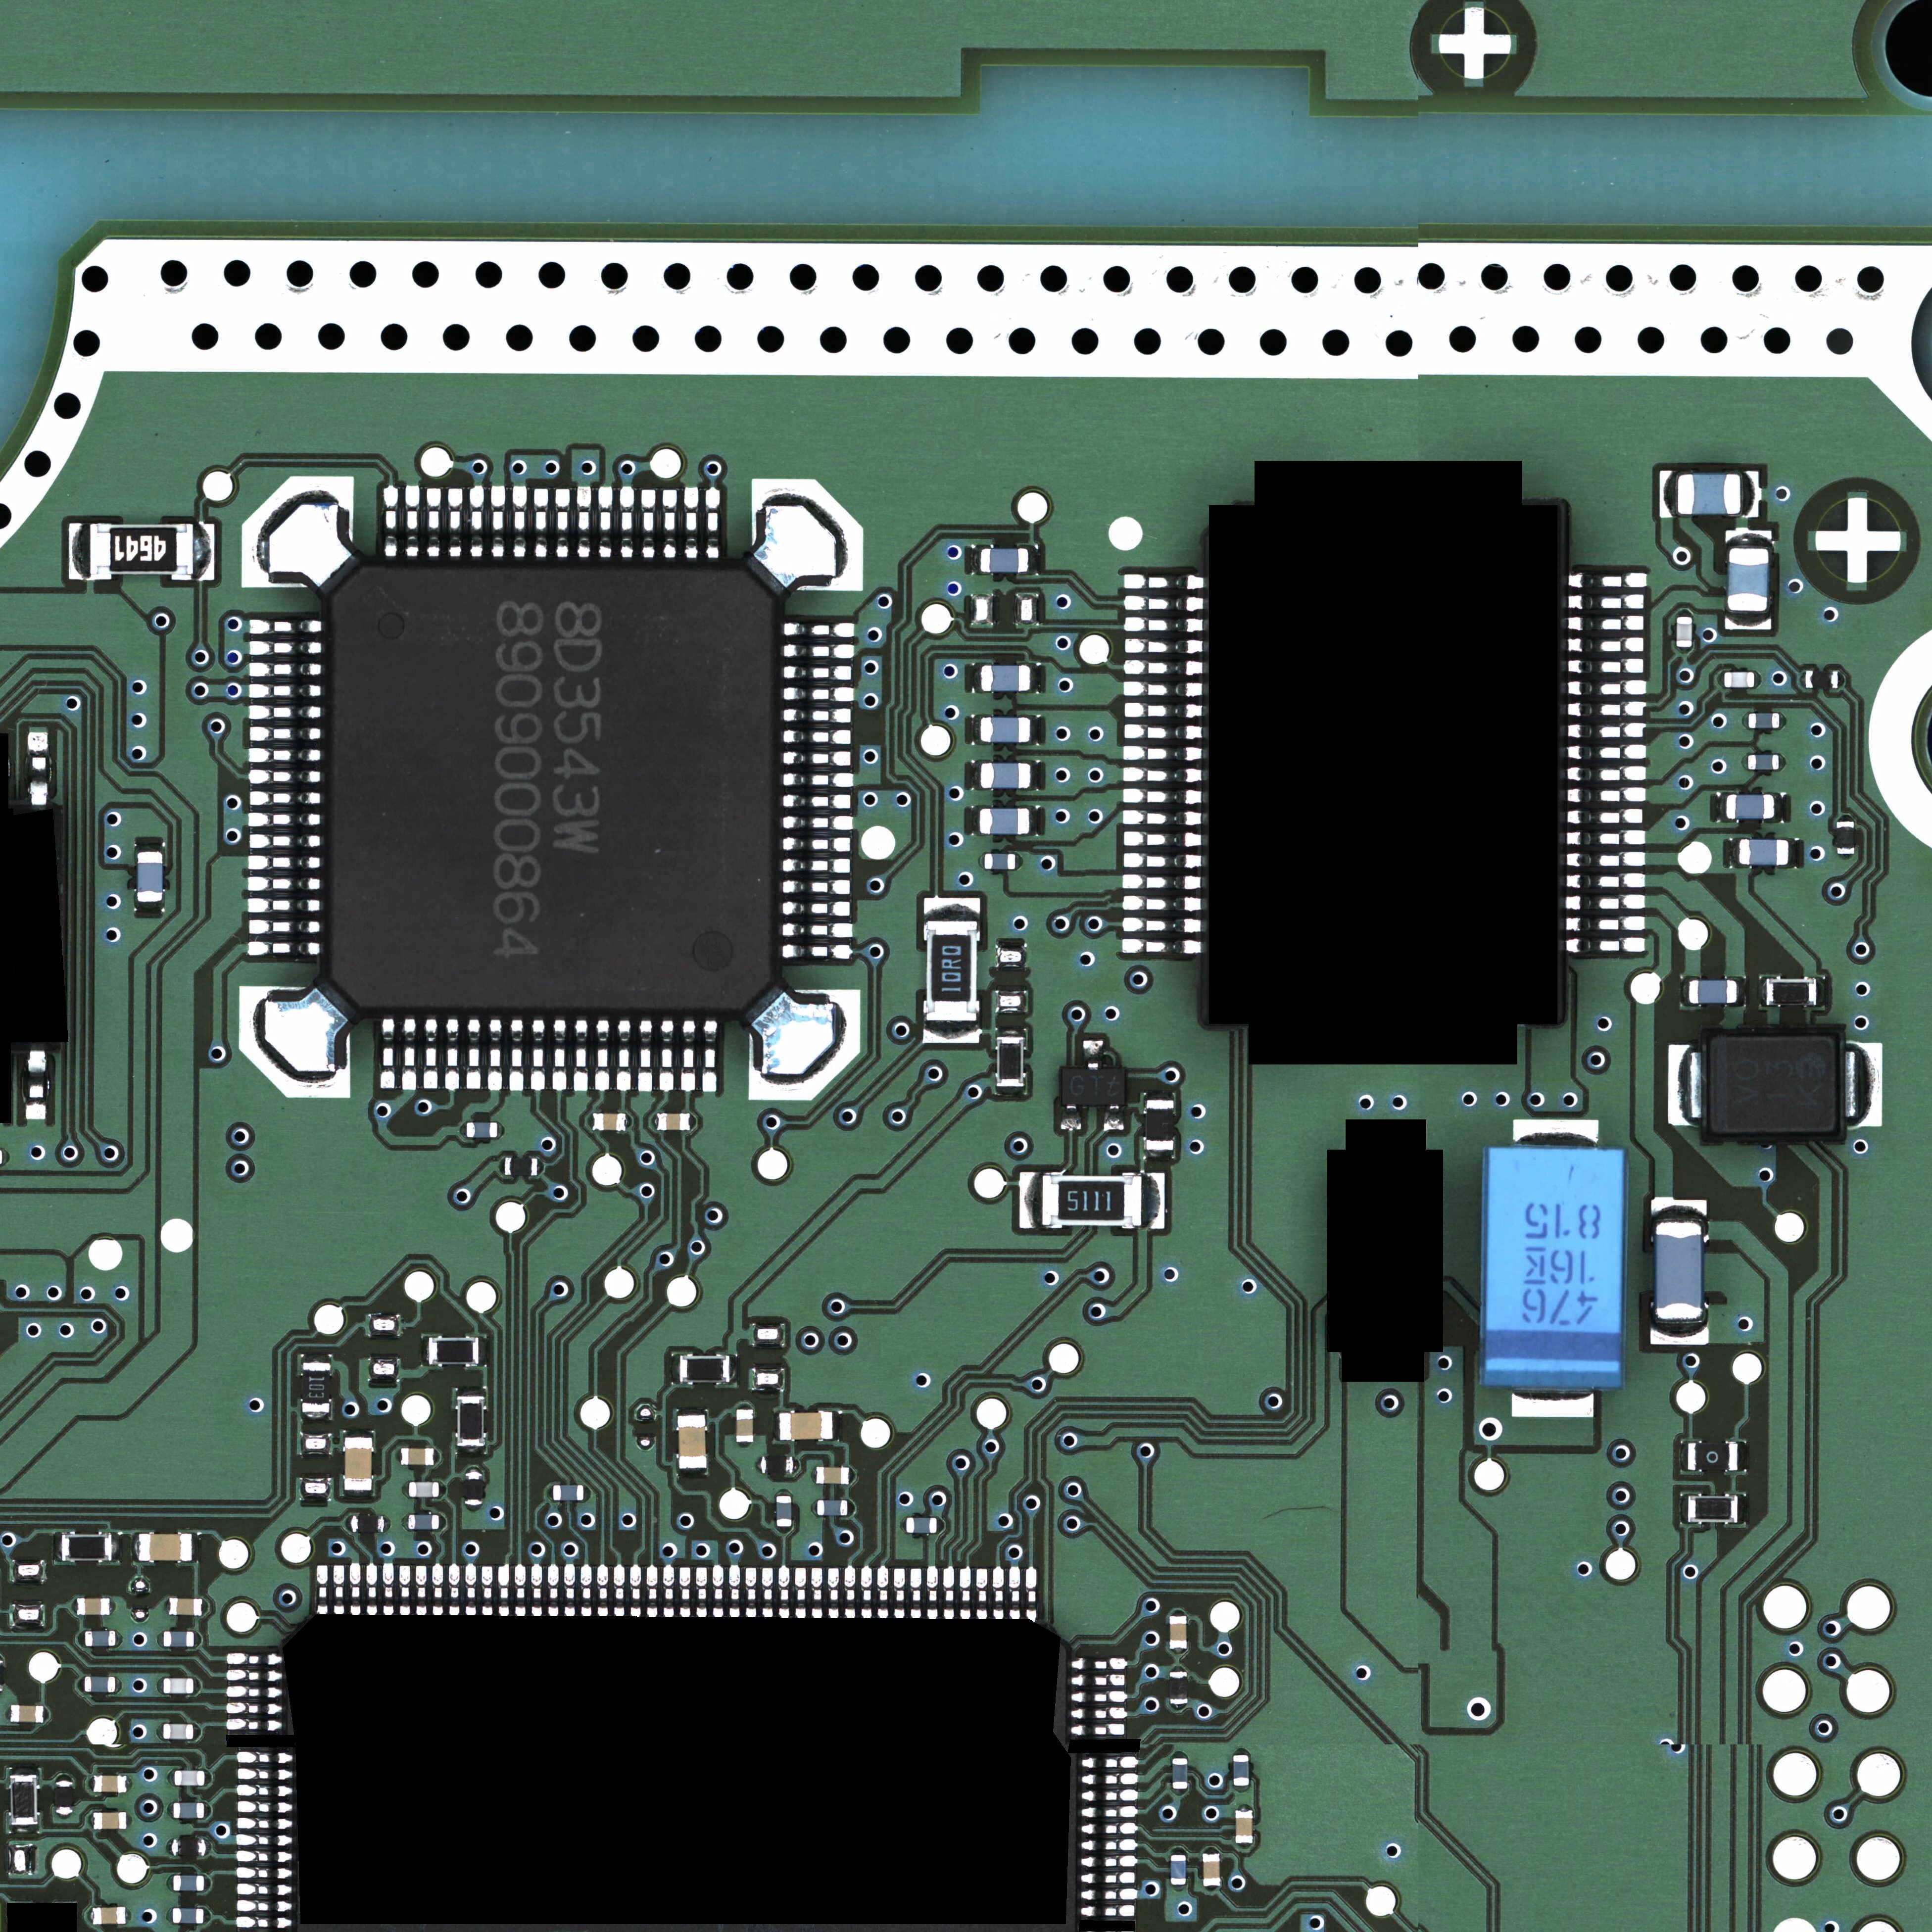Package: (329, 565, 772, 1012), (1482, 1147, 1623, 1388), (1708, 1036, 1836, 1133), (92, 525, 192, 578), (1041, 1172, 1142, 1225), (925, 921, 979, 1021), (1653, 1221, 1703, 1319), (1728, 547, 1770, 614), (1677, 473, 1743, 515), (1062, 1069, 1126, 1106), (678, 1415, 707, 1468), (780, 1411, 833, 1440), (138, 1534, 192, 1561), (344, 1436, 372, 1490), (1146, 1099, 1174, 1151), (1687, 1443, 1738, 1471), (302, 1362, 331, 1413), (1739, 840, 1789, 866), (138, 851, 163, 902), (980, 666, 1031, 691), (430, 1338, 478, 1364), (980, 718, 1031, 742), (979, 809, 1030, 834), (458, 1397, 483, 1446), (1767, 979, 1816, 1004), (980, 764, 1031, 788), (998, 1038, 1023, 1087), (62, 1536, 112, 1560), (1726, 794, 1774, 820), (980, 549, 1029, 573), (680, 1357, 730, 1381), (1689, 980, 1738, 1004), (1689, 1497, 1739, 1520), (12, 1776, 35, 1824), (1835, 821, 1856, 854), (172, 1837, 206, 1857), (504, 1158, 538, 1176), (1169, 1671, 1188, 1704), (1805, 670, 1838, 688), (762, 1456, 792, 1476), (54, 1782, 73, 1815), (169, 1598, 203, 1616), (351, 1514, 385, 1532), (465, 1472, 483, 1504), (10, 1705, 44, 1723), (76, 1597, 110, 1615), (1169, 1617, 1187, 1648), (592, 1113, 626, 1131), (1236, 1811, 1254, 1843), (94, 1775, 126, 1792), (92, 1907, 126, 1924), (94, 1812, 126, 1829), (1203, 1853, 1220, 1885), (657, 1113, 690, 1130), (816, 1467, 849, 1484), (736, 1410, 754, 1442), (401, 1448, 434, 1465), (1233, 1755, 1249, 1786), (466, 1122, 498, 1138), (553, 1485, 584, 1501), (985, 853, 1015, 869), (163, 1678, 193, 1694), (163, 1631, 194, 1647), (173, 1908, 203, 1924), (84, 1676, 115, 1692), (907, 1517, 937, 1533), (775, 1497, 792, 1526), (1172, 1758, 1188, 1789), (85, 1631, 116, 1646), (817, 1500, 848, 1515), (1676, 617, 1692, 647), (1748, 713, 1779, 728), (174, 1803, 204, 1818), (173, 1876, 204, 1891), (174, 1770, 205, 1786), (1724, 672, 1754, 688), (163, 1724, 193, 1739), (409, 1514, 439, 1530), (409, 1482, 439, 1497), (1171, 1855, 1186, 1885), (1748, 755, 1778, 770)
Solder: (238, 987, 352, 1098), (241, 477, 355, 587), (751, 480, 866, 590), (749, 989, 860, 1100), (1836, 1042, 1882, 1127), (1668, 1045, 1708, 1125), (1514, 1120, 1599, 1146), (1512, 1390, 1594, 1417), (27, 727, 49, 805), (24, 1051, 47, 1118), (1649, 1321, 1709, 1345), (924, 898, 980, 922), (1569, 573, 1645, 589), (1568, 594, 1645, 611), (1125, 595, 1204, 611), (68, 523, 90, 580), (1568, 636, 1645, 652), (1124, 574, 1204, 589), (1124, 617, 1204, 633), (1124, 660, 1203, 676), (1124, 703, 1203, 719), (1123, 745, 1203, 761), (1123, 767, 1202, 783), (1123, 788, 1203, 804), (1123, 831, 1202, 847), (1123, 874, 1202, 890), (1123, 895, 1203, 911), (1123, 918, 1202, 933), (1123, 939, 1203, 955), (1125, 638, 1204, 654), (1125, 681, 1204, 697), (1125, 724, 1204, 740), (1122, 810, 1201, 825), (1122, 853, 1201, 869), (1019, 1172, 1041, 1229), (659, 1017, 675, 1092), (249, 661, 322, 678), (782, 792, 855, 809), (782, 857, 855, 873), (680, 1017, 696, 1092), (701, 1017, 718, 1092), (193, 524, 215, 580), (248, 769, 321, 785), (248, 747, 321, 764), (248, 704, 321, 721), (248, 897, 320, 914), (248, 919, 320, 936), (249, 833, 321, 850), (249, 811, 321, 827), (783, 621, 855, 637), (783, 685, 855, 702), (782, 707, 855, 724), (782, 728, 855, 745), (782, 771, 855, 788), (782, 878, 854, 895), (782, 943, 854, 960), (1566, 916, 1644, 931), (1566, 873, 1644, 889), (1566, 894, 1644, 910), (1567, 787, 1645, 802), (1567, 808, 1645, 823), (1567, 851, 1645, 866), (1568, 680, 1646, 695), (1568, 701, 1646, 717), (1568, 722, 1646, 737), (1568, 744, 1646, 759), (638, 1017, 654, 1092), (617, 1016, 633, 1092), (249, 618, 322, 634), (249, 639, 322, 656), (249, 682, 322, 699), (782, 814, 855, 830), (782, 836, 855, 852), (248, 725, 321, 742), (248, 876, 320, 892), (248, 940, 320, 957), (249, 854, 321, 870), (249, 790, 321, 806), (783, 642, 855, 658), (783, 664, 855, 680), (782, 750, 855, 767), (782, 900, 854, 916), (782, 922, 854, 938), (1143, 1173, 1164, 1228), (924, 1022, 979, 1043), (1568, 658, 1645, 673), (424, 1016, 439, 1090), (444, 1016, 460, 1090), (467, 1016, 483, 1090), (1568, 615, 1644, 630), (1566, 937, 1644, 952), (1567, 830, 1645, 845), (574, 1016, 589, 1092), (1568, 765, 1646, 780), (402, 1016, 418, 1091), (509, 1017, 524, 1092), (576, 485, 591, 558), (552, 1016, 568, 1091), (404, 483, 419, 557), (382, 1016, 396, 1090), (596, 1017, 611, 1091), (469, 485, 484, 558), (683, 486, 698, 559), (490, 484, 505, 559), (383, 486, 398, 558), (531, 1017, 546, 1091), (426, 487, 441, 559), (619, 486, 634, 558), (488, 1017, 503, 1090), (598, 487, 613, 558), (512, 486, 527, 558), (556, 486, 570, 558), (447, 488, 462, 558), (641, 488, 656, 558), (1651, 1199, 1707, 1217), (662, 489, 676, 559), (534, 487, 548, 558), (706, 488, 720, 559), (1725, 528, 1773, 546), (1660, 470, 1677, 519), (1744, 471, 1761, 518), (1725, 615, 1772, 630), (227, 1719, 282, 1731), (237, 1751, 292, 1763), (238, 1801, 293, 1813), (237, 1817, 292, 1829), (237, 1867, 292, 1879), (227, 1702, 282, 1714), (237, 1834, 292, 1845), (237, 1883, 292, 1894), (237, 1899, 292, 1911), (465, 1565, 476, 1621), (1071, 1708, 1127, 1719), (762, 1567, 773, 1623), (382, 1564, 393, 1620), (960, 1566, 971, 1624), (943, 1567, 954, 1625), (862, 1566, 872, 1624), (778, 1566, 789, 1624), (713, 1566, 724, 1624), (630, 1564, 641, 1622), (227, 1653, 282, 1664), (227, 1670, 282, 1681), (227, 1686, 282, 1697), (238, 1785, 292, 1796), (238, 1768, 292, 1780), (237, 1851, 292, 1862), (237, 1916, 292, 1928), (1026, 1566, 1037, 1624), (1010, 1567, 1020, 1624), (977, 1567, 988, 1624), (927, 1567, 938, 1624), (845, 1566, 856, 1624), (613, 1565, 624, 1622), (531, 1564, 542, 1621), (812, 1567, 822, 1624), (547, 1565, 558, 1622), (911, 1568, 921, 1625), (828, 1567, 839, 1624), (795, 1567, 806, 1624), (663, 1566, 674, 1622), (646, 1566, 657, 1622), (564, 1565, 575, 1621), (498, 1565, 509, 1621), (448, 1565, 459, 1621), (1071, 1724, 1125, 1736), (1082, 1806, 1138, 1817), (1082, 1790, 1138, 1801), (1082, 1757, 1138, 1768), (399, 1565, 410, 1621), (317, 1564, 328, 1620), (1071, 1691, 1127, 1702), (1082, 1889, 1137, 1900), (1082, 1823, 1138, 1834), (1082, 1773, 1138, 1784), (994, 1566, 1004, 1624), (729, 1566, 740, 1624), (433, 1563, 443, 1621), (350, 1562, 360, 1620), (894, 1568, 905, 1623), (1081, 1905, 1134, 1917), (1082, 1873, 1134, 1884), (878, 1566, 888, 1624), (581, 1565, 591, 1622), (515, 1564, 525, 1621), (597, 1565, 608, 1622), (746, 1567, 756, 1624), (366, 1564, 377, 1620), (1082, 1856, 1138, 1866), (1081, 1839, 1137, 1850), (482, 1566, 492, 1622), (416, 1565, 427, 1621), (334, 1564, 344, 1620), (1071, 1659, 1127, 1669), (680, 1567, 690, 1623), (696, 1567, 707, 1622), (1071, 1675, 1125, 1686), (1083, 1040, 1103, 1068), (1061, 1105, 1082, 1129), (1104, 1106, 1124, 1130), (1817, 977, 1826, 1008), (7, 1767, 39, 1776), (771, 1411, 779, 1441), (1739, 1442, 1747, 1472), (672, 1352, 679, 1384), (1142, 1091, 1175, 1099), (995, 1087, 1025, 1095), (997, 1029, 1026, 1037), (192, 1532, 199, 1563), (1143, 1152, 1176, 1159), (1718, 792, 1726, 822), (1739, 977, 1746, 1007), (1681, 1492, 1688, 1524), (1031, 718, 1040, 743), (9, 1825, 38, 1832), (113, 1535, 122, 1560), (1739, 1494, 1746, 1524), (677, 1469, 708, 1476), (971, 717, 979, 743), (343, 1429, 375, 1436), (342, 1492, 375, 1498), (729, 1355, 737, 1383), (1031, 665, 1039, 692), (1682, 979, 1690, 1005), (54, 1534, 62, 1560), (1775, 793, 1782, 821), (303, 1413, 330, 1421), (1760, 978, 1767, 1006), (1732, 838, 1738, 868), (833, 1411, 839, 1441), (1789, 839, 1796, 869), (422, 1337, 429, 1364), (972, 665, 979, 692), (456, 1390, 485, 1396), (457, 1447, 486, 1453), (973, 546, 980, 573), (1031, 763, 1038, 789), (1030, 546, 1037, 573), (972, 763, 979, 789), (972, 807, 979, 833), (1030, 807, 1037, 833), (1681, 1442, 1687, 1473), (135, 902, 163, 909), (131, 1533, 137, 1563), (304, 1353, 330, 1360), (54, 1772, 74, 1781), (479, 1338, 485, 1365), (1232, 1744, 1250, 1754), (495, 1158, 504, 1176), (457, 1121, 466, 1140), (753, 1456, 761, 1475), (135, 845, 165, 850), (690, 1113, 699, 1131), (676, 1409, 708, 1414), (792, 1456, 800, 1476), (648, 1113, 657, 1130), (627, 1114, 635, 1131), (583, 1114, 592, 1131), (538, 1158, 547, 1175), (1170, 1649, 1187, 1657), (1170, 1846, 1187, 1854), (849, 1466, 857, 1484), (1169, 1662, 1187, 1670), (206, 1839, 214, 1856), (1169, 1608, 1186, 1616), (498, 1122, 506, 1139), (1170, 1705, 1187, 1713), (1202, 1846, 1222, 1853), (194, 1631, 201, 1649), (1755, 671, 1762, 689), (736, 1402, 754, 1409), (1233, 1787, 1252, 1793), (1676, 647, 1694, 654), (343, 1514, 351, 1531), (1015, 853, 1023, 870), (1676, 608, 1693, 616), (1780, 713, 1787, 730), (584, 1485, 591, 1503), (205, 1769, 212, 1787), (401, 1513, 408, 1530), (204, 1907, 211, 1924), (385, 1514, 392, 1532), (977, 852, 984, 870), (1836, 814, 1854, 821), (166, 1876, 173, 1892), (774, 1489, 792, 1496), (775, 1527, 793, 1534), (1780, 754, 1787, 772), (203, 1598, 209, 1616), (938, 1517, 944, 1535), (1170, 1885, 1189, 1892), (78, 1630, 85, 1647), (87, 1775, 94, 1792), (165, 1907, 172, 1924), (126, 1907, 133, 1924), (85, 1907, 92, 1924), (205, 1876, 212, 1892), (166, 1802, 173, 1819), (899, 1517, 906, 1534), (1838, 671, 1844, 690), (466, 1505, 483, 1511), (1171, 1789, 1189, 1795), (1741, 753, 1747, 771), (439, 1515, 447, 1530), (439, 1482, 446, 1497), (402, 1481, 409, 1497), (435, 1449, 442, 1465), (393, 1448, 400, 1464), (546, 1485, 553, 1501), (1717, 672, 1724, 687), (116, 1631, 122, 1647), (1203, 1886, 1220, 1892), (1236, 1844, 1256, 1849), (848, 1500, 855, 1516), (809, 1500, 816, 1516), (165, 1839, 172, 1855), (115, 1677, 122, 1693), (156, 1677, 162, 1693), (168, 1769, 174, 1786), (205, 1802, 211, 1818), (78, 1676, 84, 1692), (193, 1678, 200, 1693), (127, 1812, 132, 1830), (111, 1598, 116, 1616), (157, 1631, 163, 1648), (3, 1705, 9, 1722), (156, 1723, 162, 1739), (194, 1723, 200, 1739), (127, 1775, 132, 1792), (1171, 1751, 1188, 1757), (163, 1598, 168, 1615), (1838, 855, 1855, 860), (45, 1706, 50, 1722), (55, 1815, 74, 1820), (1237, 1805, 1254, 1810), (736, 1443, 754, 1448), (1799, 672, 1805, 688), (1742, 713, 1748, 728), (71, 1598, 76, 1615), (465, 1467, 482, 1472), (88, 1812, 93, 1829), (811, 1467, 816, 1483)
